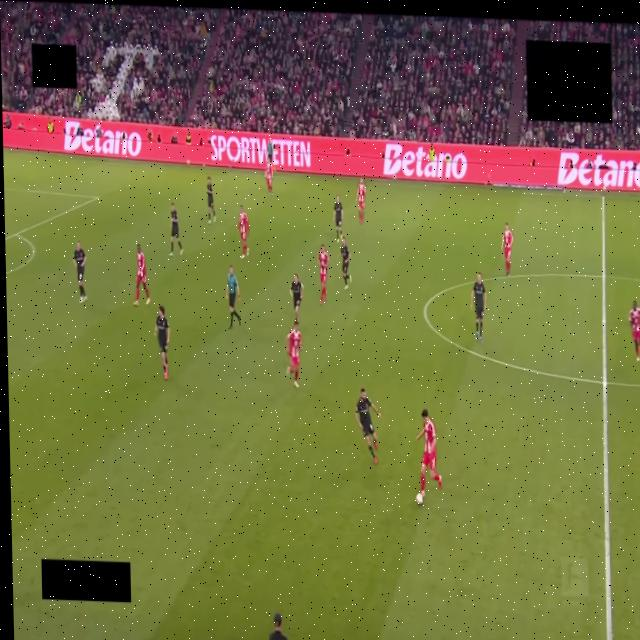ball: (416, 493, 423, 505)
player: (417, 409, 441, 497), (355, 388, 381, 464), (470, 273, 486, 342), (286, 321, 302, 387), (155, 306, 169, 380), (134, 245, 150, 306), (74, 242, 87, 303), (318, 245, 329, 305), (170, 203, 182, 256), (501, 224, 513, 276), (290, 274, 303, 322), (629, 301, 639, 360), (340, 237, 351, 290), (239, 206, 249, 259), (333, 196, 343, 243), (207, 177, 216, 223), (356, 179, 365, 223), (265, 162, 274, 194)
referee: (226, 266, 241, 328)
